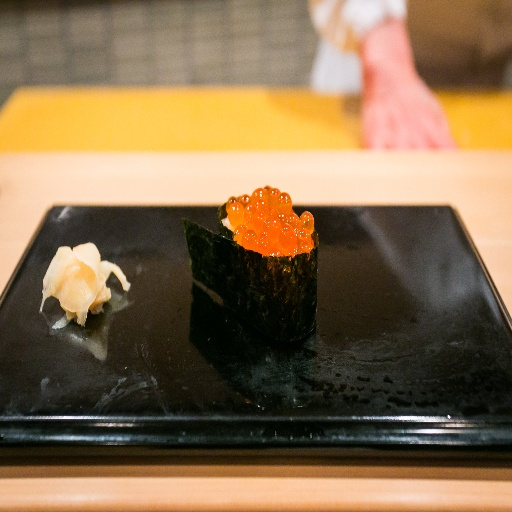hand: (319, 12, 464, 153)
